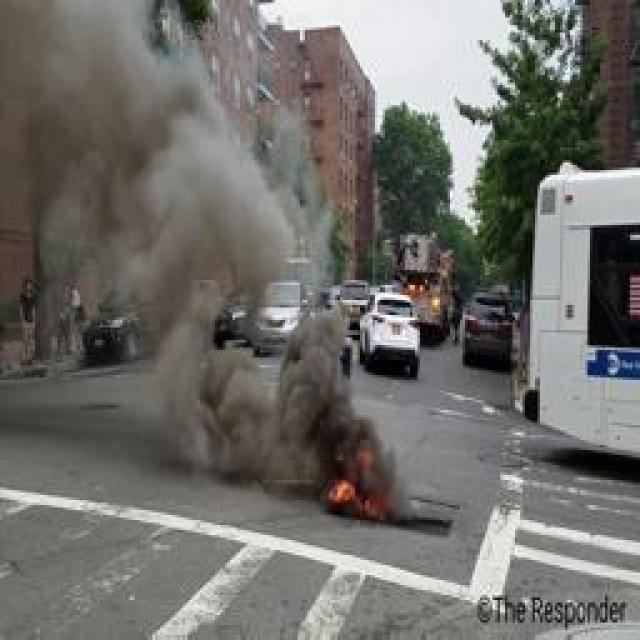Fire: (320, 443, 404, 530)
